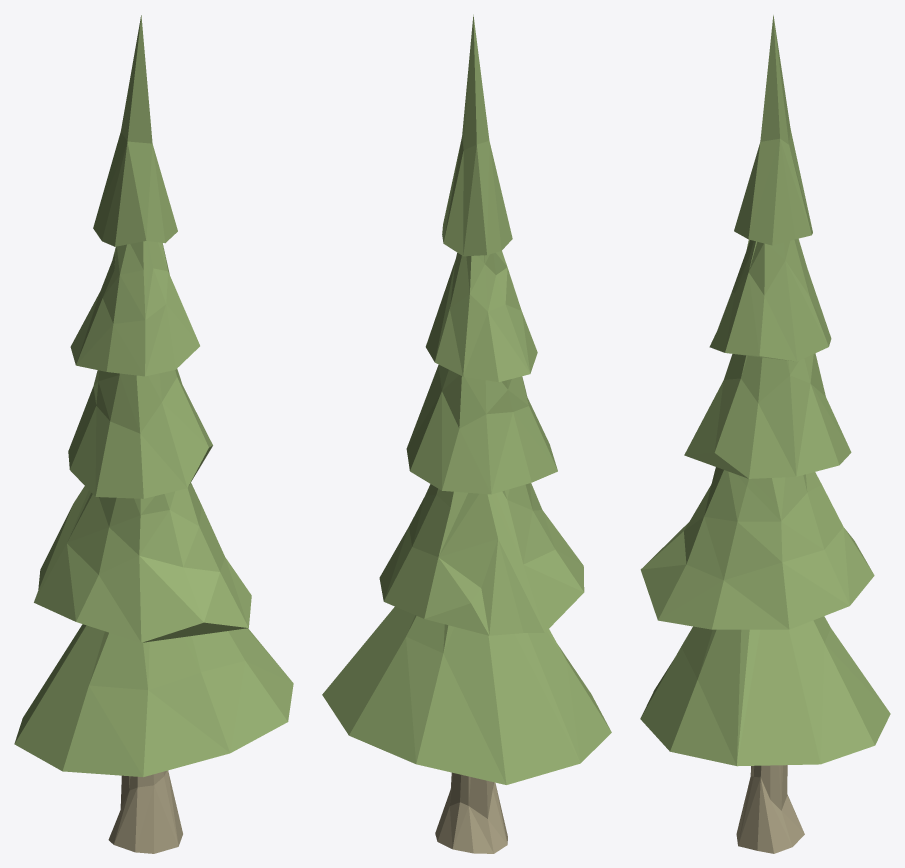
File: LowPoly - FirTree B.FBX
The picture shows the model from 3 angles, left to right: view 1: azimuth 30°, elevation 25°; view 2: azimuth 150°, elevation 25°; view 3: azimuth 270°, elevation 25°; orthographic projection.
Visible parts, largest first — view 1: LowPolyFirTree_02; view 2: LowPolyFirTree_02; view 3: LowPolyFirTree_02.
Part boxes in pixels (x1,y1,x2,y2): LowPolyFirTree_02: (14,15,293,853); LowPolyFirTree_02: (322,14,611,853); LowPolyFirTree_02: (640,15,890,853).
Size of the model in its own units: 366 by 1150 by 317.
